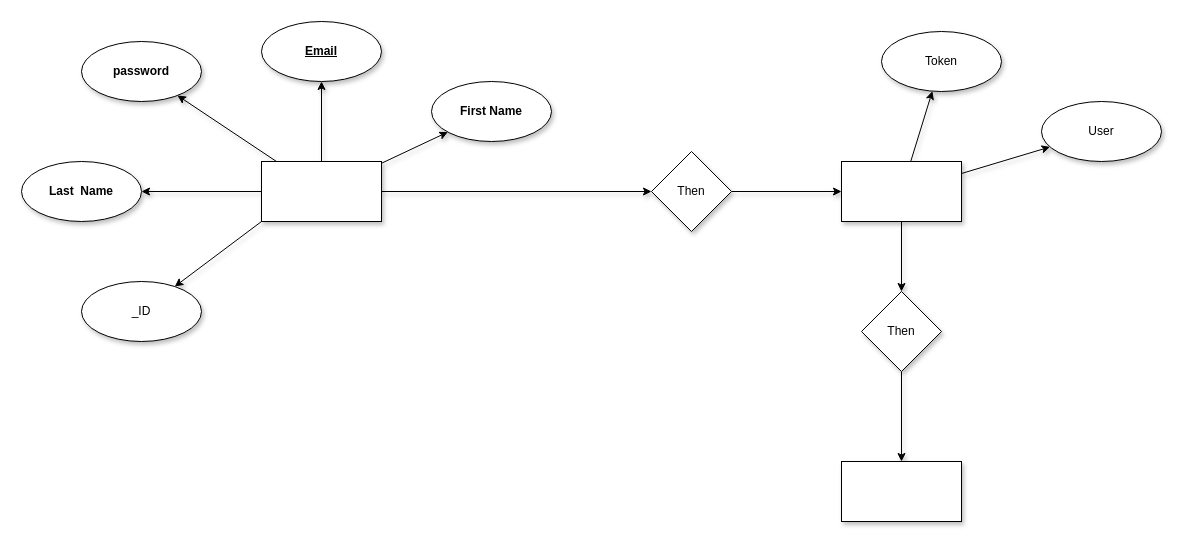
Image size: 1185x546. Some labels were removed from this diagram. Each missing label, with the centre of its shape:
"Admin Signup" belongs at [322,192].
"Signin" belongs at [902,192].
"Upload Category" belongs at [902,492].
